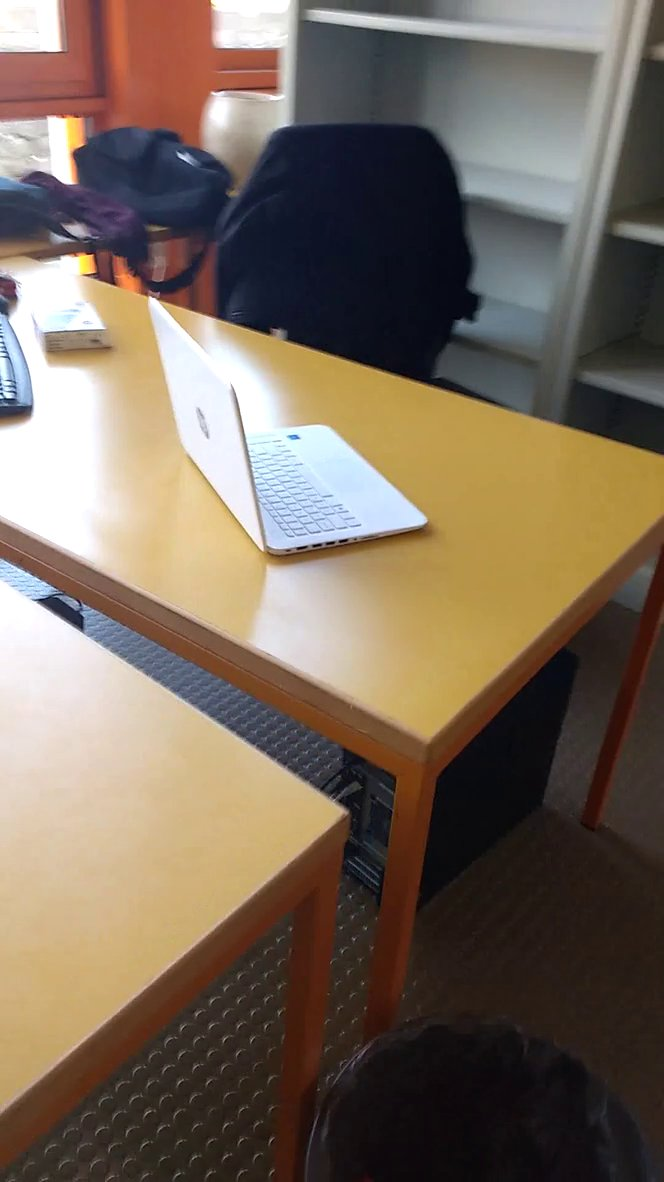bag: (66, 113, 237, 262)
chair: (198, 114, 502, 362)
laptop: (142, 284, 438, 563)
